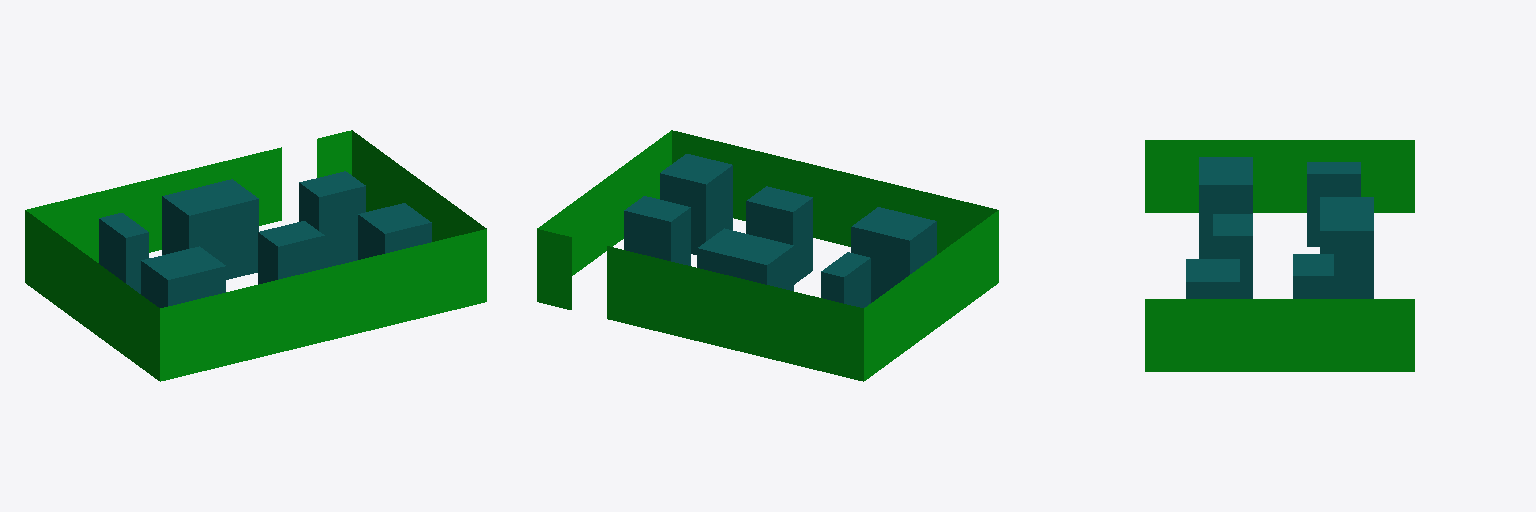
Rendered from map_mini1.obj.
3 renders of one model, left to right at view 1: azimuth 30°, elevation 25°; view 2: azimuth 150°, elevation 25°; view 3: azimuth 270°, elevation 25°, orthographic.
Visible parts, largest first — view 1: 平面.003, 平面, 平面.002, 立方体.001, 平面.001, 立方体.002, 立方体.006, 立方体.005, 立方体.004, 立方体.003; view 2: 平面, 平面.003, 平面.002, 平面.001, 立方体.006, 立方体.004, 立方体.001, 立方体.005, 立方体.002, 立方体.003; view 3: 平面.001, 平面.002, 立方体.001, 立方体.006, 立方体.003, 立方体.005, 立方体.004, 立方体.002.
Part boxes in pixels (x1,y1,x2,y2): 平面.003: (160,229,486,381); 平面: (26,130,351,262); 平面.002: (25,210,159,380); 立方体.001: (162,179,258,279); 平面.001: (352,130,486,241); 立方体.002: (299,171,365,267); 立方体.006: (141,246,225,307); 立方体.005: (258,221,324,284); 立方体.004: (358,203,431,259); 立方体.003: (99,213,148,293); 平面: (537,229,863,381); 平面.003: (672,130,997,254); 平面.002: (864,210,998,380); 平面.001: (537,130,671,275); 立方体.006: (851,207,936,302); 立方体.004: (660,154,732,254); 立方体.001: (697,228,793,290); 立方体.005: (746,186,812,284); 立方体.002: (624,196,690,265); 立方体.003: (821,252,870,307); 平面.001: (1145,299,1414,371); 平面.002: (1145,140,1414,212); 立方体.001: (1320,197,1373,298); 立方体.006: (1199,157,1252,258); 立方体.003: (1307,162,1360,246); 立方体.005: (1213,214,1252,298); 立方体.004: (1186,259,1239,298); 立方体.002: (1293,254,1333,298).
Bounding box in the file's own units: 280 × 60 × 200.